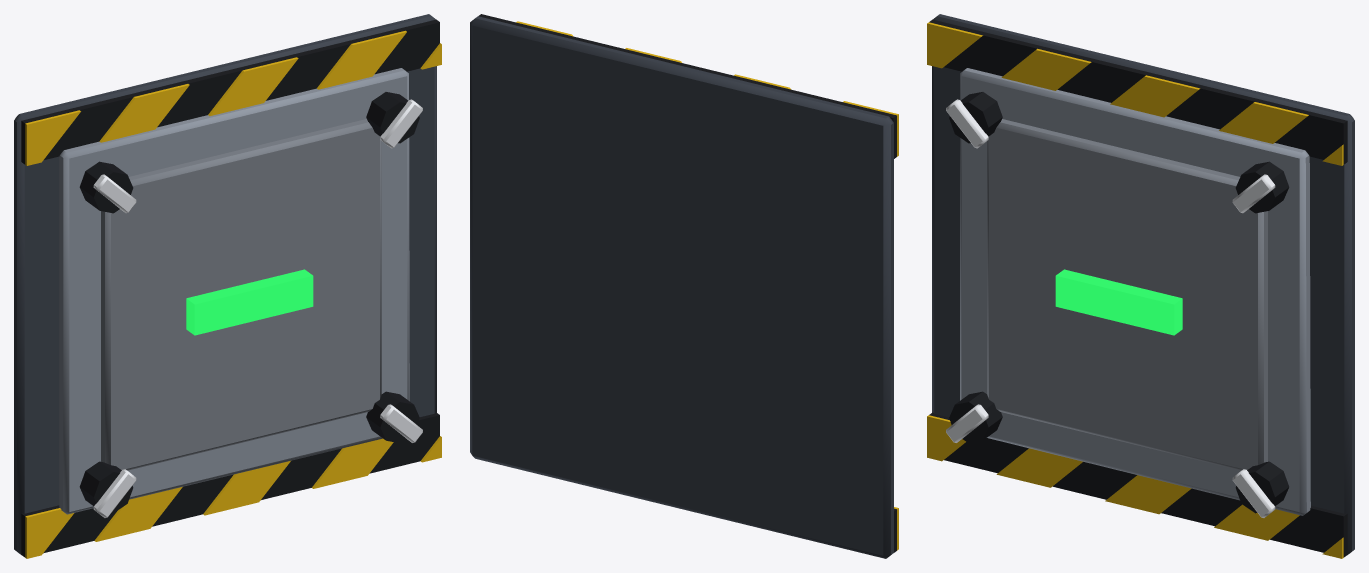
File: hatch_jefferies_square.glb
The picture shows the model from 3 angles, left to right: view 1: azimuth 30°, elevation 25°; view 2: azimuth 150°, elevation 25°; view 3: azimuth 330°, elevation 25°; orthographic projection.
Visible parts, largest first — view 1: hatch_jefferies_square; view 2: hatch_jefferies_square; view 3: hatch_jefferies_square.
Part boxes in pixels (x1,y1,x2,y2): hatch_jefferies_square: [14, 14, 441, 558]; hatch_jefferies_square: [470, 14, 898, 558]; hatch_jefferies_square: [927, 14, 1354, 558].
Bounding box in the file's own units: 0.85 × 0.85 × 0.14.
